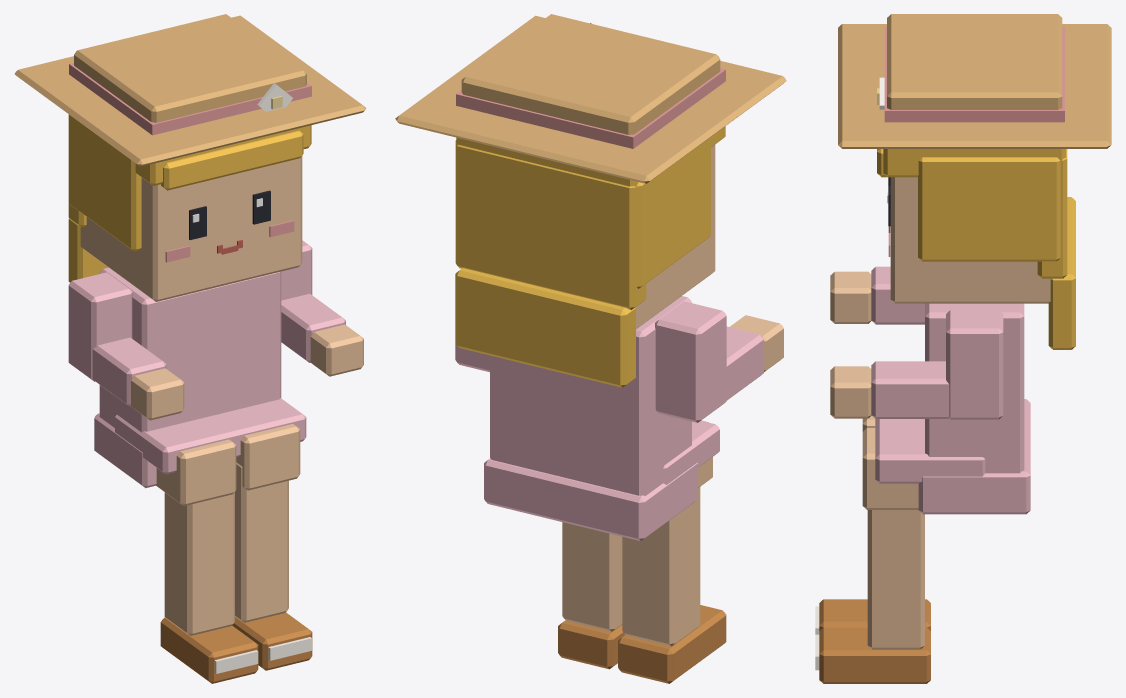
File: CatCafe_NPC_Customer_H_Sit.glb
3 renders of one model, left to right at view 1: azimuth 30°, elevation 25°; view 2: azimuth 150°, elevation 25°; view 3: azimuth 270°, elevation 25°, orthographic. The views are drawn at different scales.
Visible parts, largest first — view 1: CatCafe_NPC_Customer_H_Sit; view 2: CatCafe_NPC_Customer_H_Sit; view 3: CatCafe_NPC_Customer_H_Sit.
Part boxes in pixels (x1=…): CatCafe_NPC_Customer_H_Sit: x1=14, y1=14, x2=366, y2=683; CatCafe_NPC_Customer_H_Sit: x1=395, y1=14, x2=786, y2=683; CatCafe_NPC_Customer_H_Sit: x1=815, y1=14, x2=1111, y2=683.
Size of the model in its own units: 2.3 by 5.37 by 2.38.
1 material, 1 textured.
